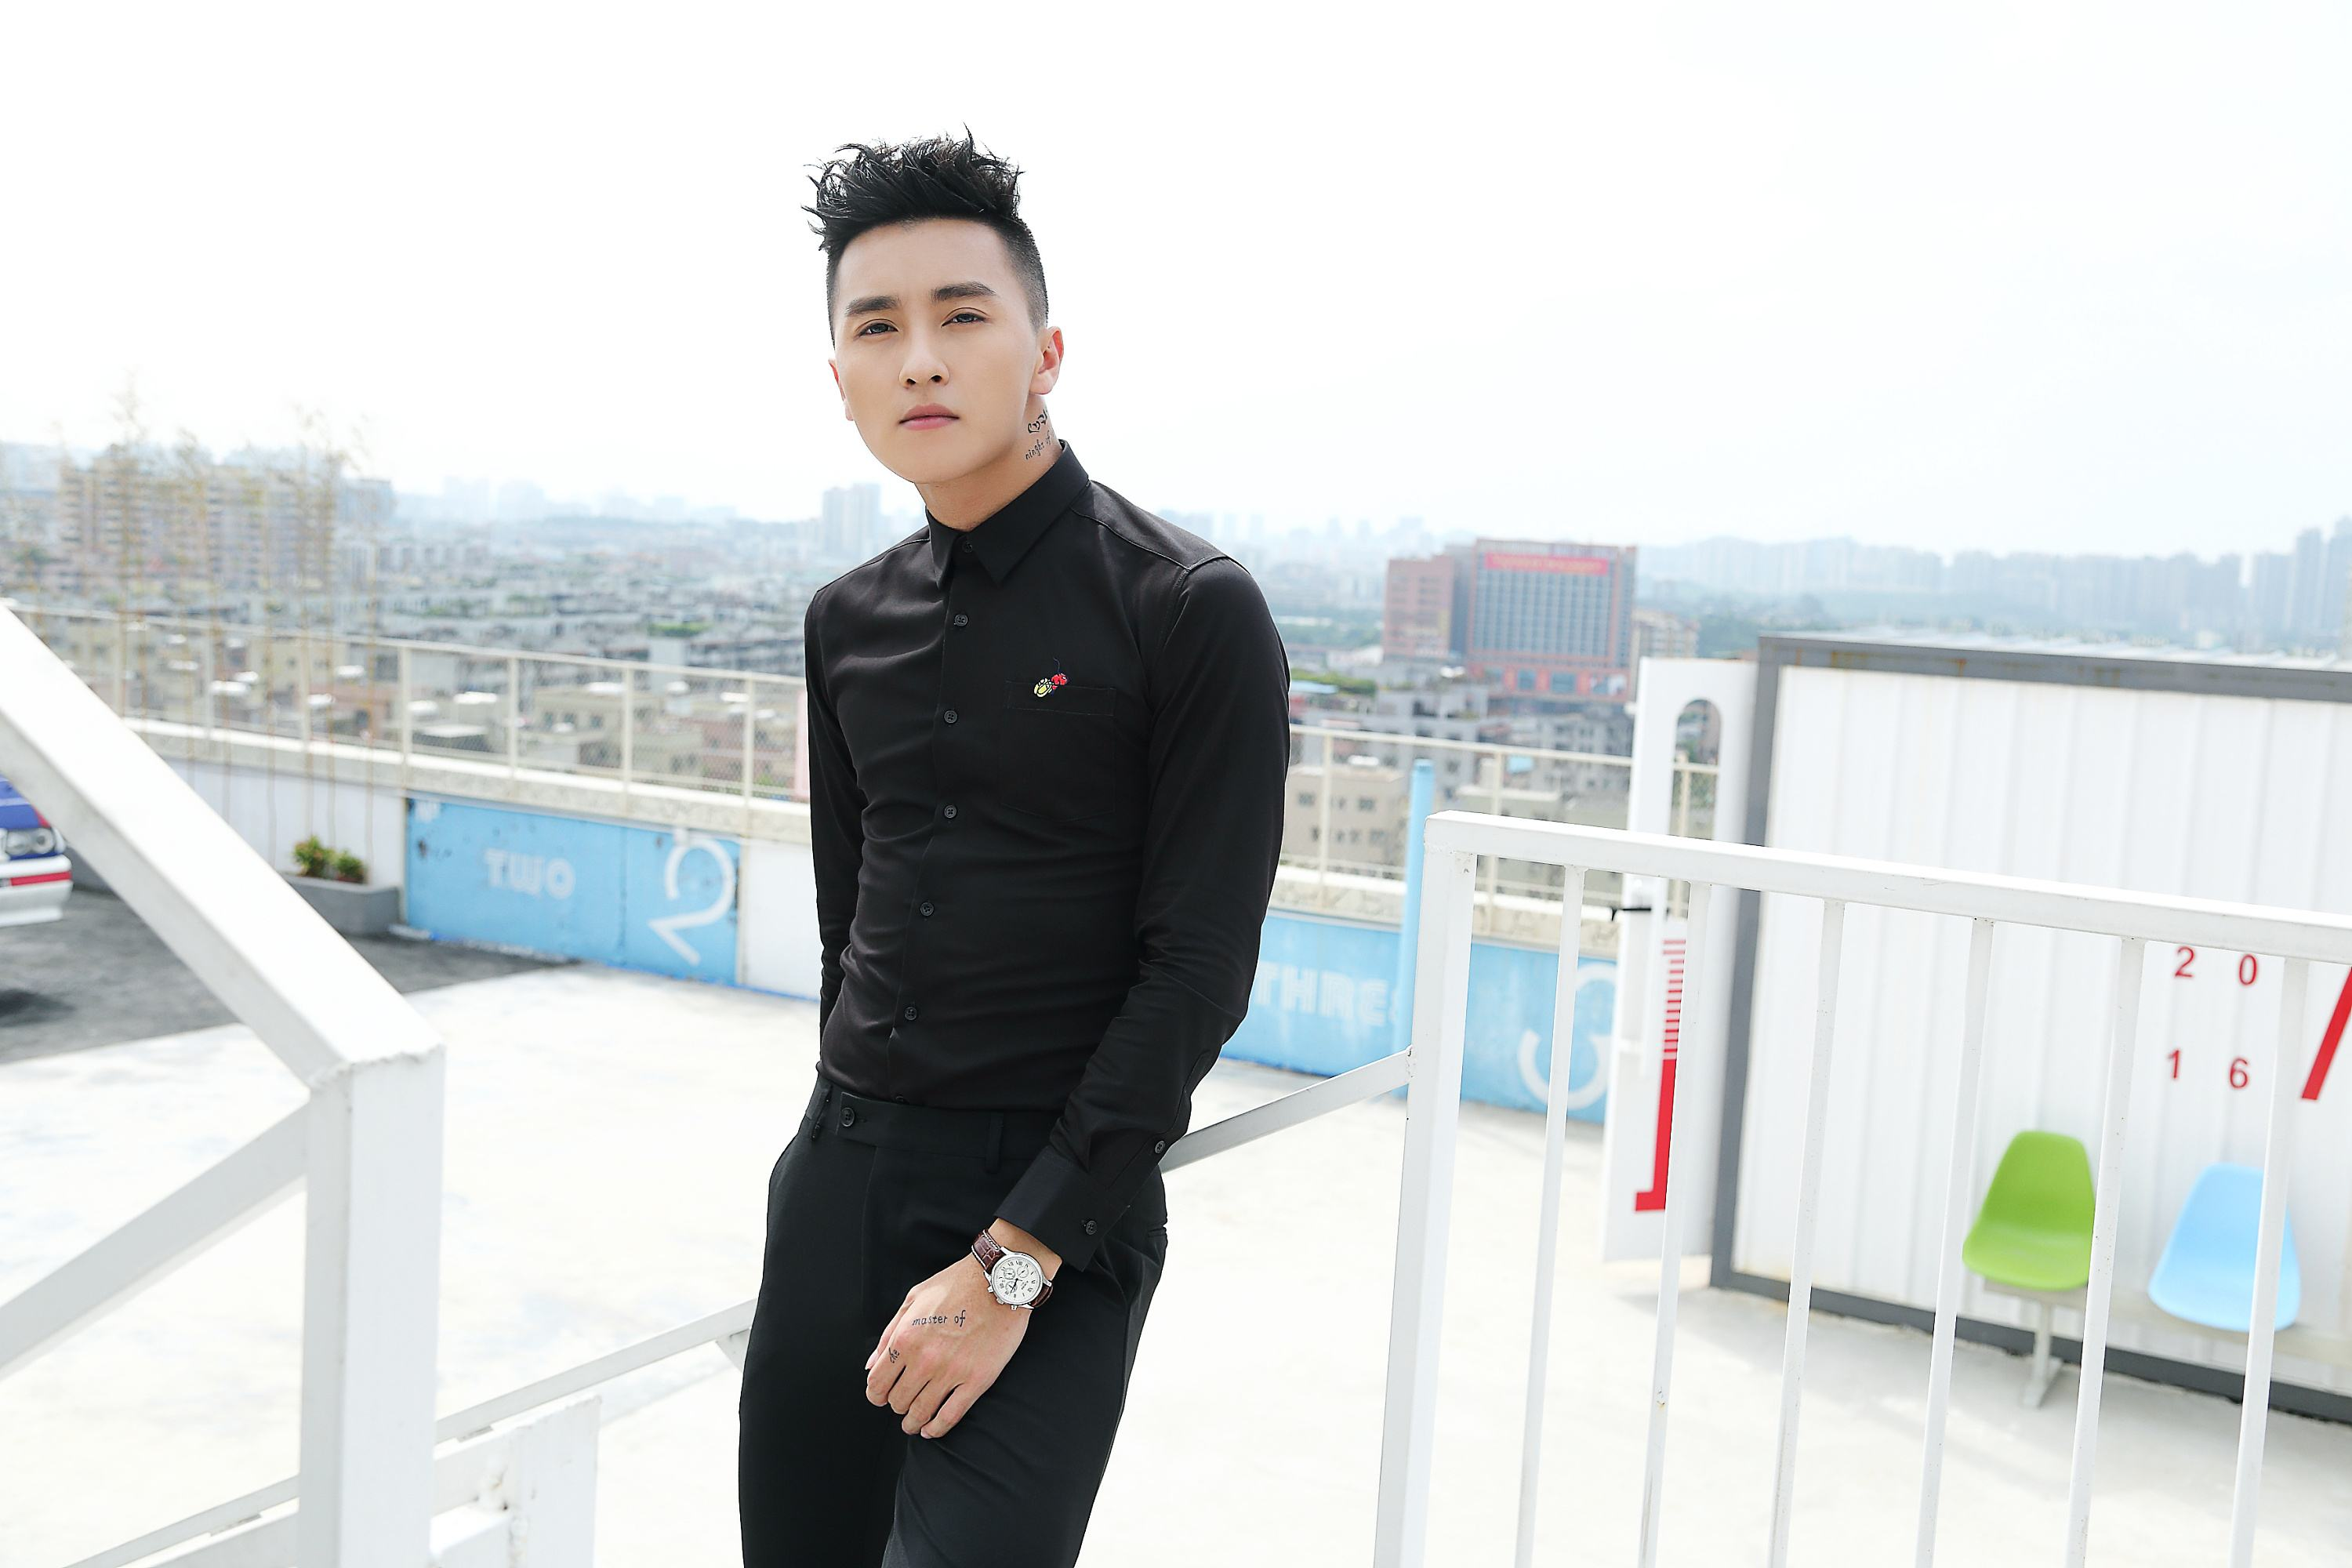person: (712, 148, 1465, 1568)
